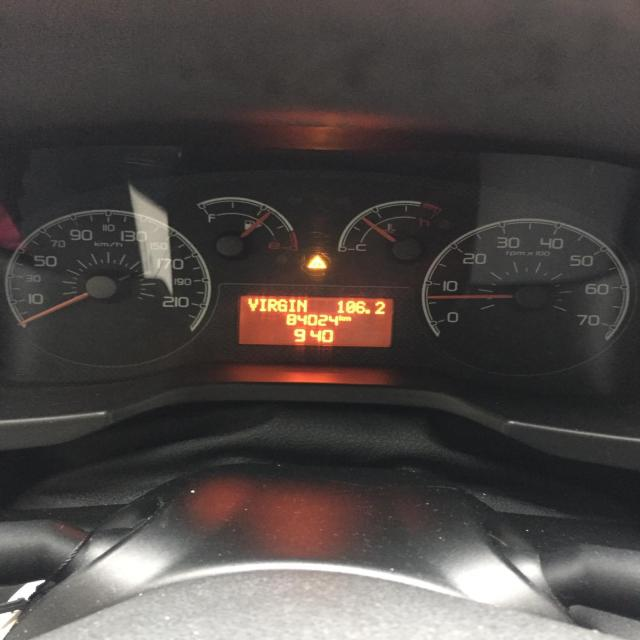odometer: (237, 293, 393, 348)
